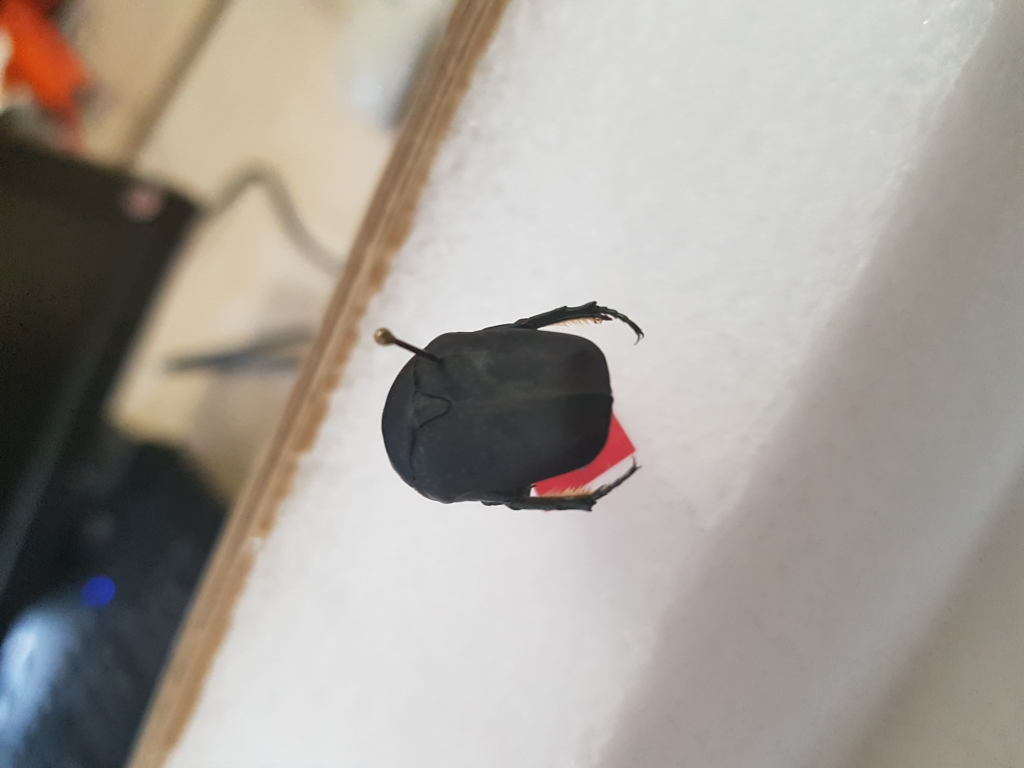Protaetia_afflicta: (373, 286, 662, 521)
